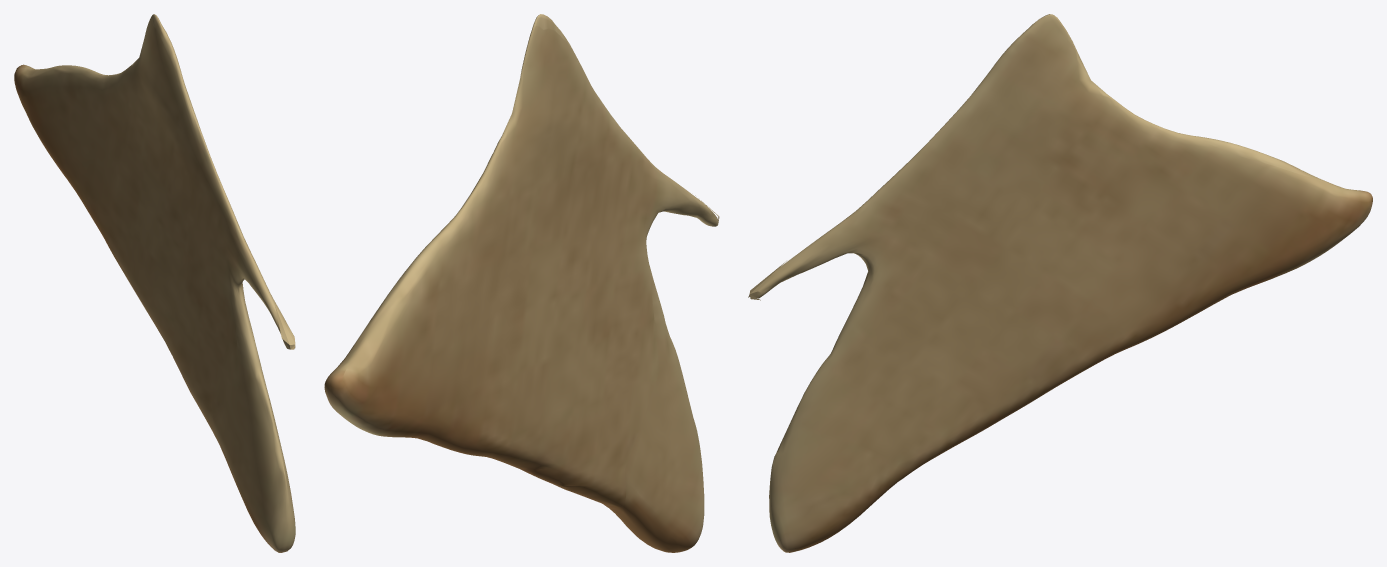
File: Nasal_Septum.glb
3 views of the same model, side by side, from view 1: azimuth 30°, elevation 25°; view 2: azimuth 150°, elevation 25°; view 3: azimuth 270°, elevation 25° (orthographic). The views are drawn at different scales.
Parts seen in each view (by area): view 1: nasal_septum.003; view 2: nasal_septum.003; view 3: nasal_septum.003.
Boxes of the visible parts, x1=… form: nasal_septum.003: x1=14, y1=14, x2=295, y2=552; nasal_septum.003: x1=324, y1=14, x2=719, y2=552; nasal_septum.003: x1=748, y1=14, x2=1372, y2=552.
Size of the model in its own units: 0.0158 by 0.2034 by 0.2169.
Materials: 1 (1 with a texture image).
